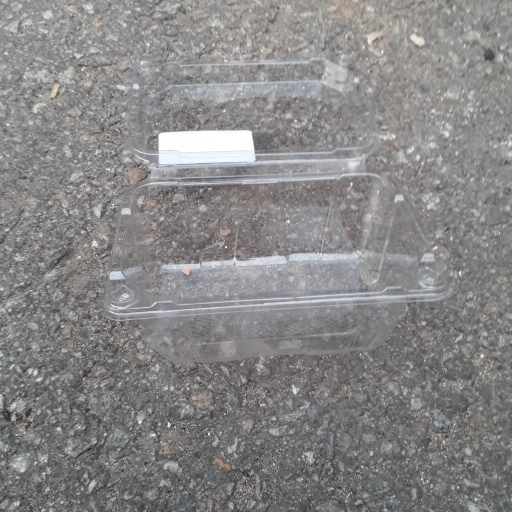Plastic_4: (100, 61, 451, 352)
